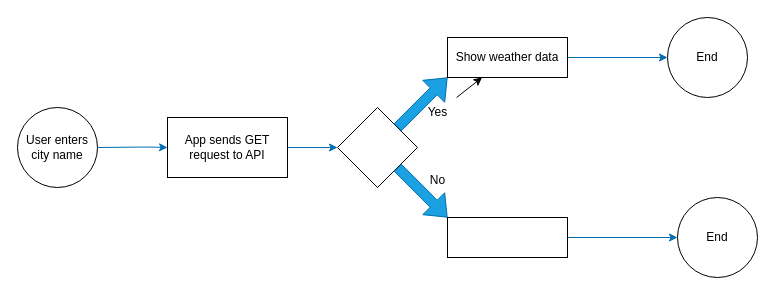
This 775x295 diagram has some shape labels left out. Each missing label, with the box of its shape:
Is city found?: (336, 106, 418, 188)
Show "City not found" error: (446, 216, 568, 258)
